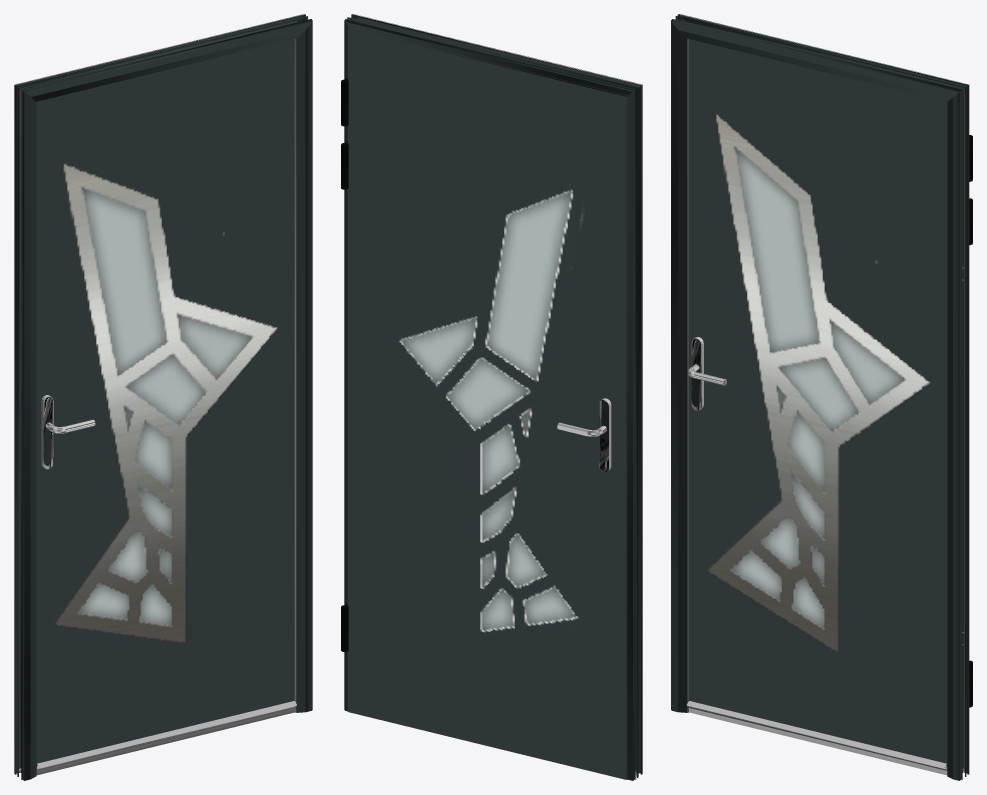
3 renders of one model, left to right at view 1: azimuth 30°, elevation 25°; view 2: azimuth 150°, elevation 25°; view 3: azimuth 330°, elevation 25°, orthographic.
Parts seen in each view (by area): view 1: ouvrant, 50, puxador; view 2: ouvrant, 50, puxador; view 3: ouvrant, 50, puxador.
Part boxes in pixels (x1,y1,x2,y2): ouvrant: [19, 21, 297, 770]; 50: [14, 14, 312, 780]; puxador: [41, 395, 53, 469]; ouvrant: [341, 28, 627, 779]; 50: [341, 14, 642, 780]; puxador: [599, 398, 611, 472]; ouvrant: [685, 21, 972, 770]; 50: [671, 14, 972, 780]; puxador: [691, 337, 703, 410].
Bounding box in the file's own units: 96 × 218 × 19.09.
1 material, 1 textured.
